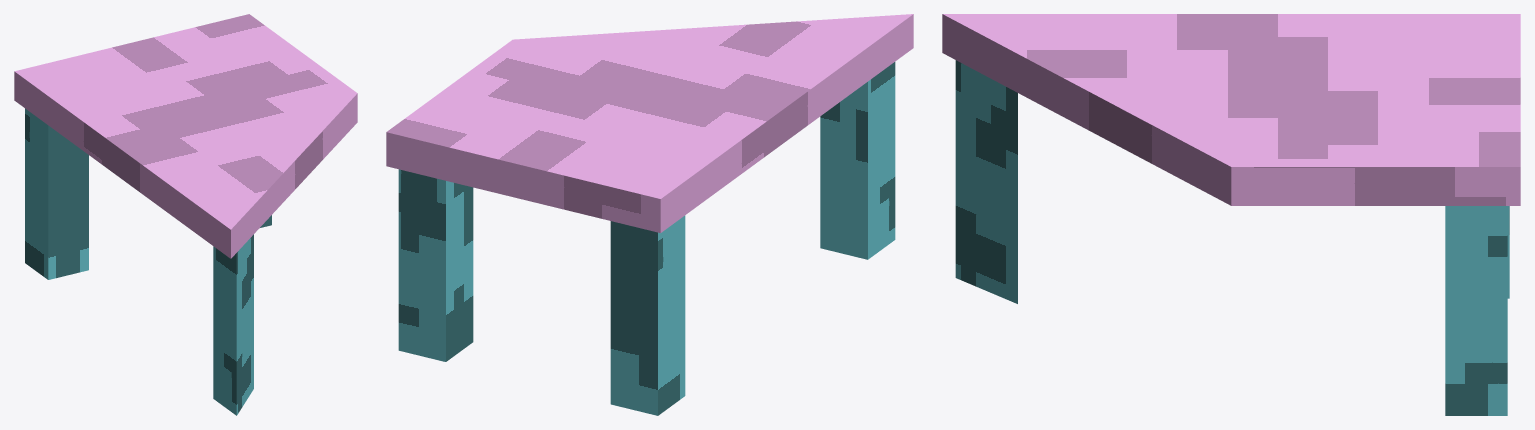
Rendered from Desk.fbx.
3 views of the same model, side by side, from view 1: azimuth 30°, elevation 25°; view 2: azimuth 150°, elevation 25°; view 3: azimuth 270°, elevation 25° (orthographic). The views are drawn at different scales.
Visible parts, largest first — view 1: Desk; view 2: Desk; view 3: Desk.
Boxes of the visible parts, bbox=[...] form: Desk: bbox=[14, 14, 357, 415]; Desk: bbox=[386, 14, 913, 415]; Desk: bbox=[942, 14, 1520, 415].
Bounding box in the file's own units: 1.51 × 1.18 × 2.4.
